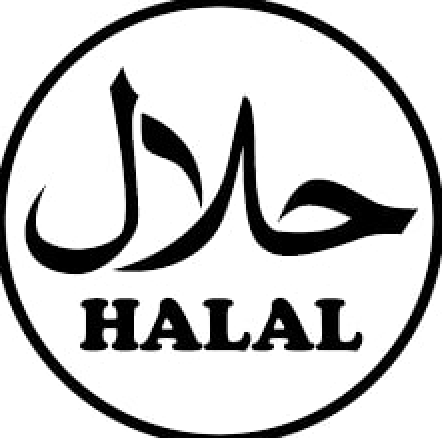Halal: (27, 65, 417, 359)
